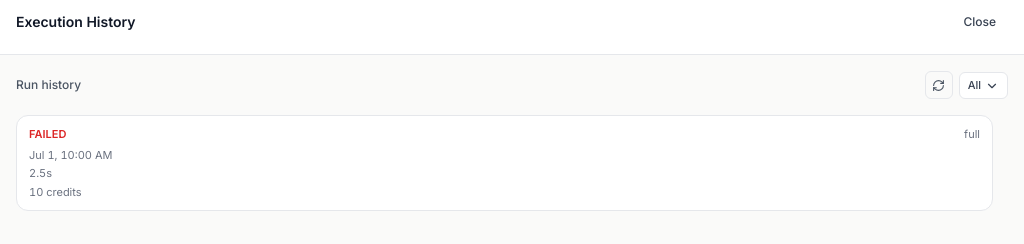
RunHistory › shows an empty-state message when the filter excludes all runs
Check: the text "FAILED" is shown, box [29,126,66,142]
Step 1. Click the dropdown → (983, 86), box [959,72,1008,99]
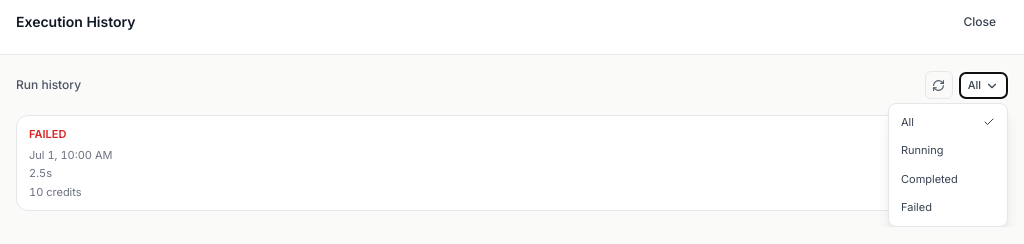
Step 2. Click the option "Completed" → (948, 179), box [889,165,1007,193]
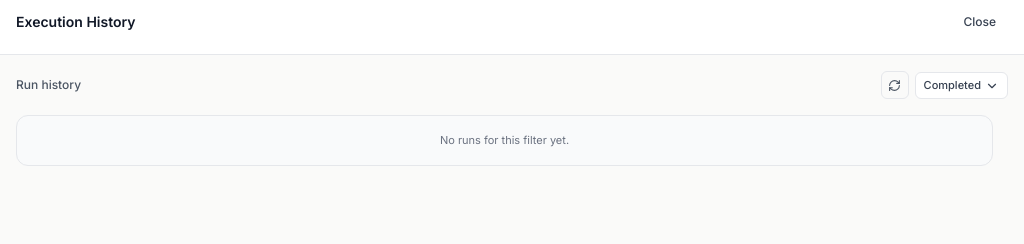
Check: the text "No runs for this filter yet." is shown, box [16,115,993,166]
